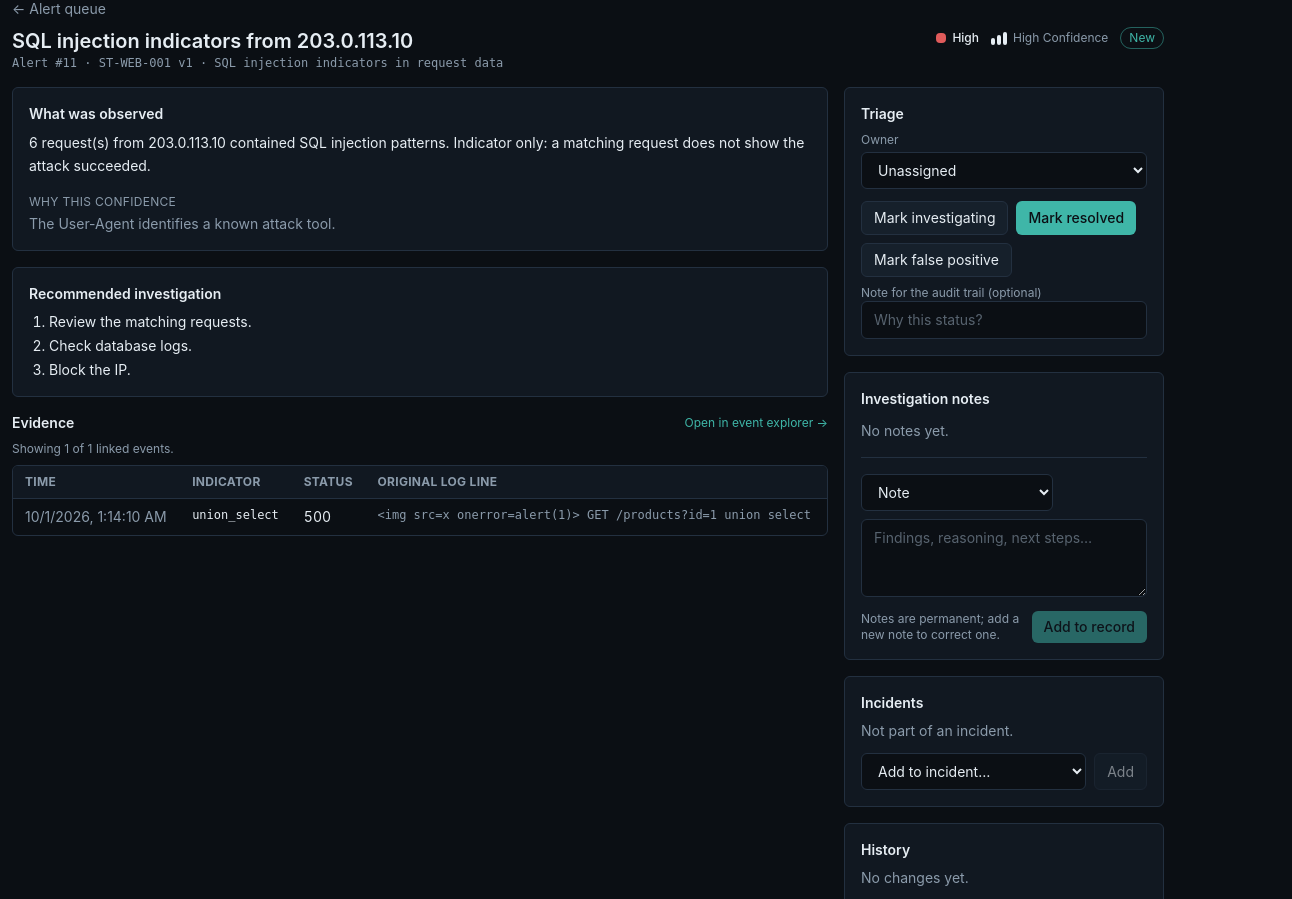
Scenario: AlertDetailPage investigation › assigns an owner and shows the change in history
Select "ana (analyst)" in the dropdown named "Alert owner" at (1004, 170), box [861, 152, 1147, 189]
(page scrolled)
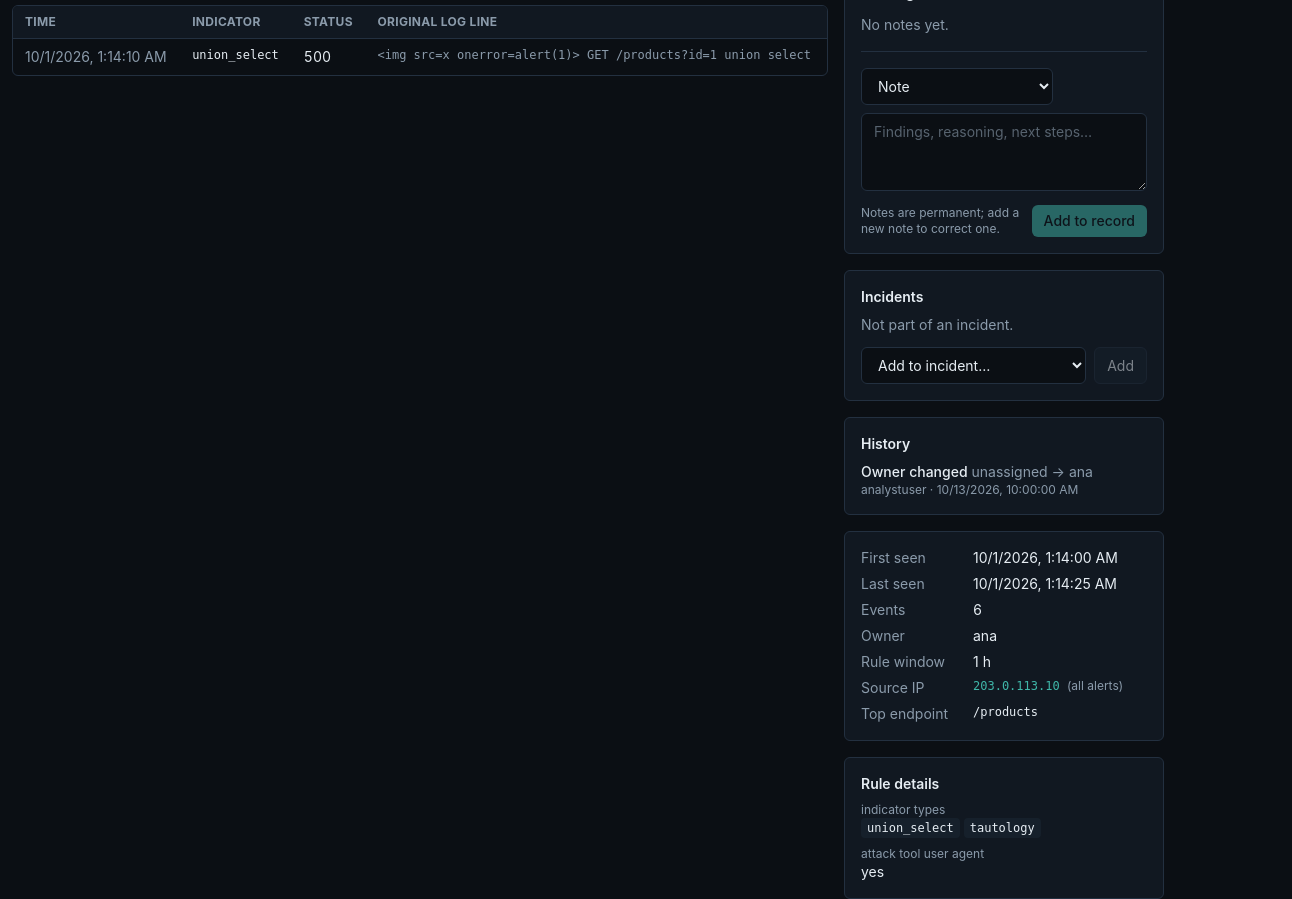
Check: the text "Owner changed" is shown, box [861, 463, 968, 480]
Check: the text "unassigned → ana" is shown, box [972, 463, 1093, 480]
